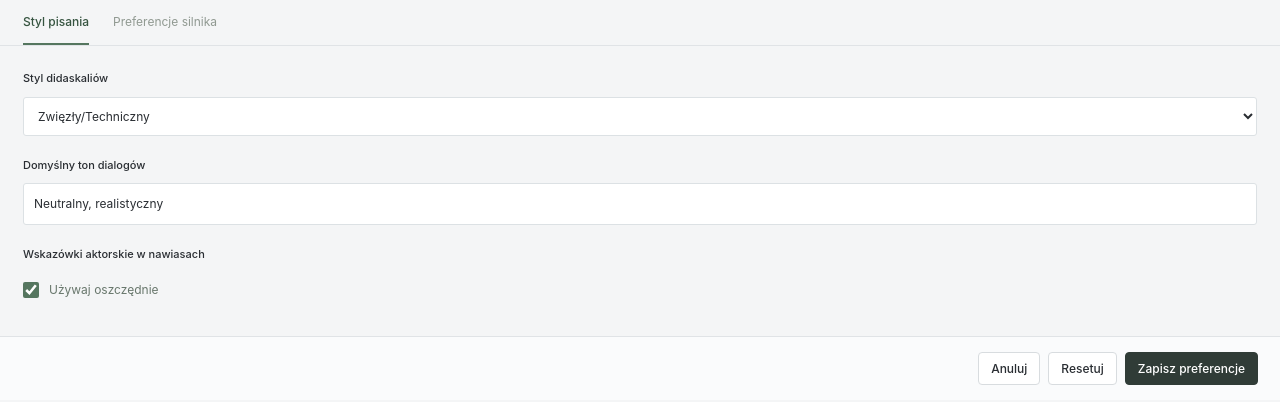
it: AI preferences form › does not announce success on failure and resets from server defaults
Replace the text in the field labelled "Domyślny ton dialogów" with "Nowy ton" at (640, 204), box [23,183,1257,225]
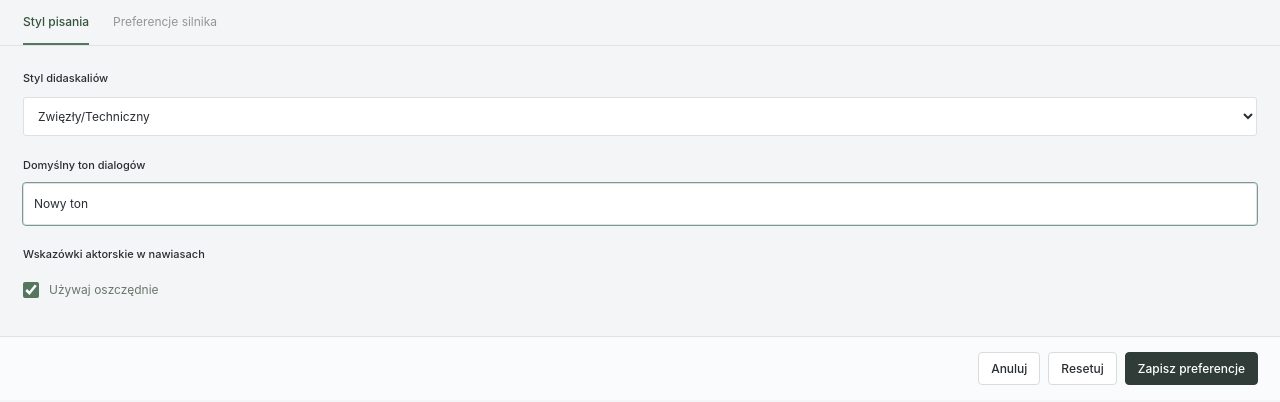
Click the button "Zapisz preferencje" at (1191, 368), box [1125,352,1258,385]
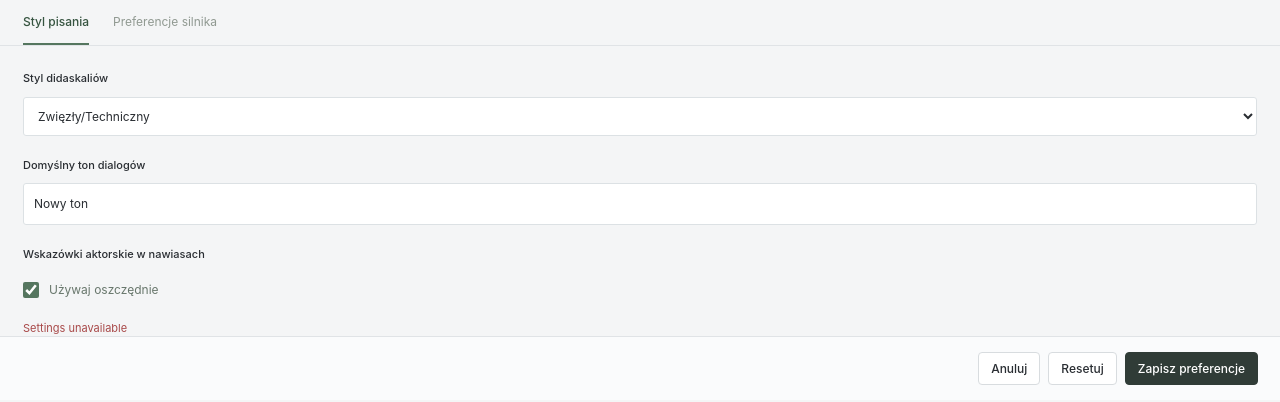
Expected: the message reads "Settings unavailable", [23,321,127,335]
Click the button "Resetuj" at (1083, 368), box [1048,352,1117,385]
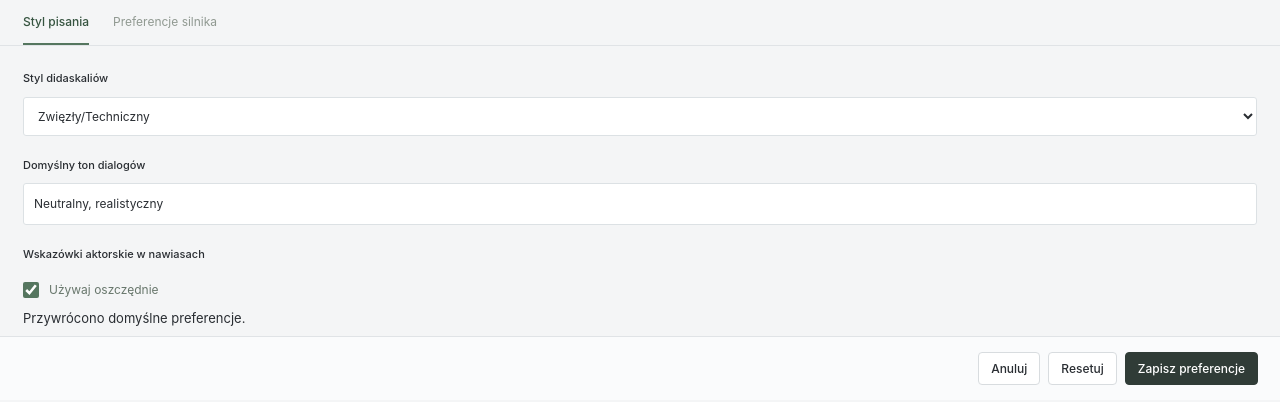
Expected: the field labelled "Domyślny ton dialogów" holds "Neutralny, realistyczny", [23,183,1257,225]
Expected: the message reads "Przywrócono domyślne preferencje.", [23,310,245,326]
